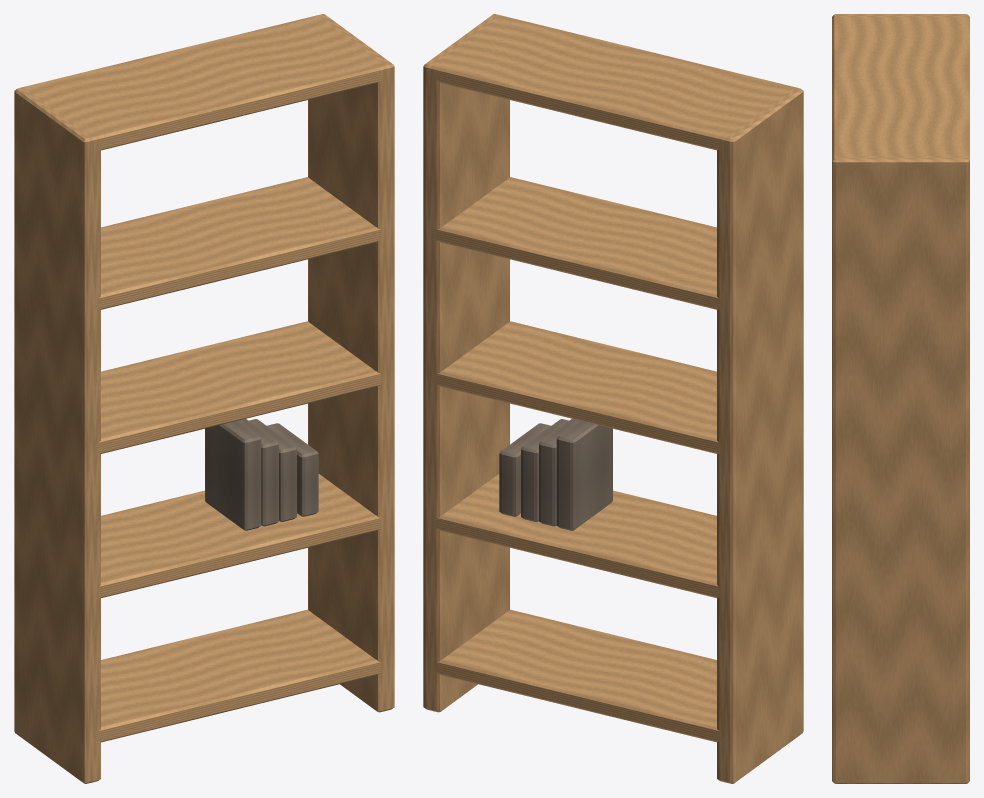
The model's file is oak_bookcase.glb.
The picture shows the model from 3 angles, left to right: view 1: azimuth 30°, elevation 25°; view 2: azimuth 150°, elevation 25°; view 3: azimuth 270°, elevation 25°; orthographic projection. The views are drawn at different scales.
Visible parts, largest first — view 1: oak_bookcase_woodOak, oak_bookcase_fabricVelvet; view 2: oak_bookcase_woodOak, oak_bookcase_fabricVelvet; view 3: oak_bookcase_woodOak.
Part boxes in pixels (<box>): oak_bookcase_woodOak: <box>14,14,394,783</box>; oak_bookcase_fabricVelvet: <box>205,418,318,530</box>; oak_bookcase_woodOak: <box>423,14,803,783</box>; oak_bookcase_fabricVelvet: <box>499,418,612,530</box>; oak_bookcase_woodOak: <box>832,14,969,783</box>.
Size of what is drawn, in the model's own units: 0.86 by 1.7 by 0.34.
2 materials, 2 textured.
